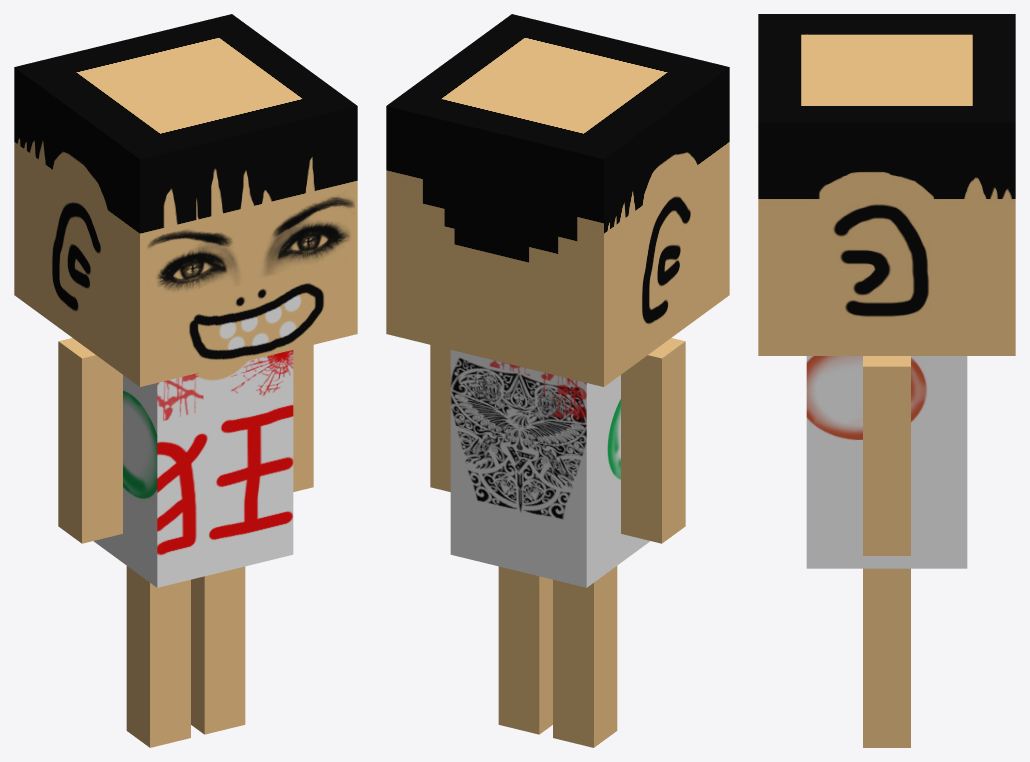
Rendered from people1_-1.FBX.
The picture shows the model from 3 angles, left to right: view 1: azimuth 30°, elevation 25°; view 2: azimuth 150°, elevation 25°; view 3: azimuth 270°, elevation 25°; orthographic projection. The views are drawn at different scales.
Visible parts, largest first — view 1: Box001, Box002, Box004, Box005, Box006, Box003; view 2: Box001, Box002, Box004, Box005, Box006, Box003; view 3: Box001, Box002, Box003, Box006.
Boxes of the visible parts, bbox=[...] form: Box001: bbox=[14, 14, 357, 386]; Box002: bbox=[93, 350, 293, 587]; Box004: bbox=[58, 338, 122, 543]; Box005: bbox=[126, 566, 190, 747]; Box006: bbox=[191, 566, 245, 734]; Box003: bbox=[293, 345, 313, 491]; Box001: bbox=[386, 14, 729, 386]; Box002: bbox=[450, 350, 650, 587]; Box004: bbox=[621, 338, 685, 543]; Box005: bbox=[553, 566, 617, 747]; Box006: bbox=[498, 566, 552, 734]; Box003: bbox=[430, 345, 450, 491]; Box001: bbox=[758, 14, 1015, 355]; Box002: bbox=[806, 356, 967, 568]; Box003: bbox=[863, 356, 910, 555]; Box006: bbox=[863, 568, 910, 747].
Size of the model in its own units: 17 by 45 by 16.
1 material, 1 textured.
